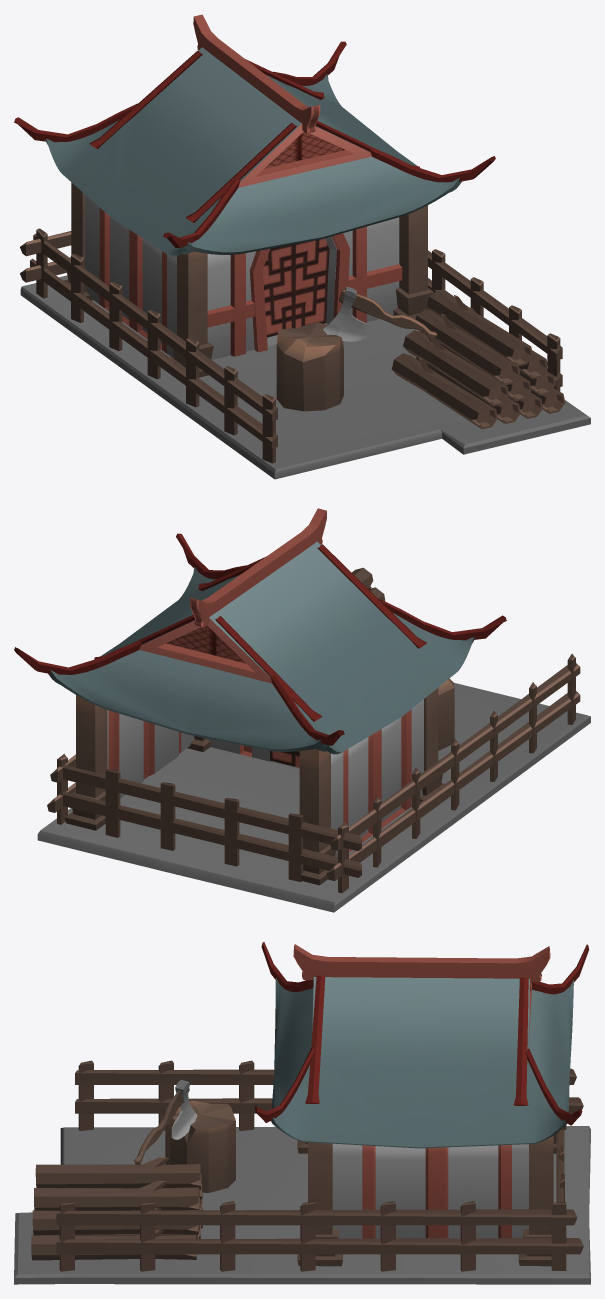
File: sawmill_2lvl.fbx
3 views of the same model, one above another, from view 1: azimuth 30°, elevation 25°; view 2: azimuth 150°, elevation 25°; view 3: azimuth 270°, elevation 25° (orthographic). The views are drawn at different scales.
Visible parts, largest first — view 1: sawmill_2lvl; view 2: sawmill_2lvl; view 3: sawmill_2lvl.
Part boxes in pixels (x1=…): sawmill_2lvl: x1=14, y1=14, x2=590, y2=479; sawmill_2lvl: x1=14, y1=508, x2=590, y2=912; sawmill_2lvl: x1=14, y1=942, x2=590, y2=1284.
Bounding box in the file's own units: 4.53 × 3.33 × 6.47.
